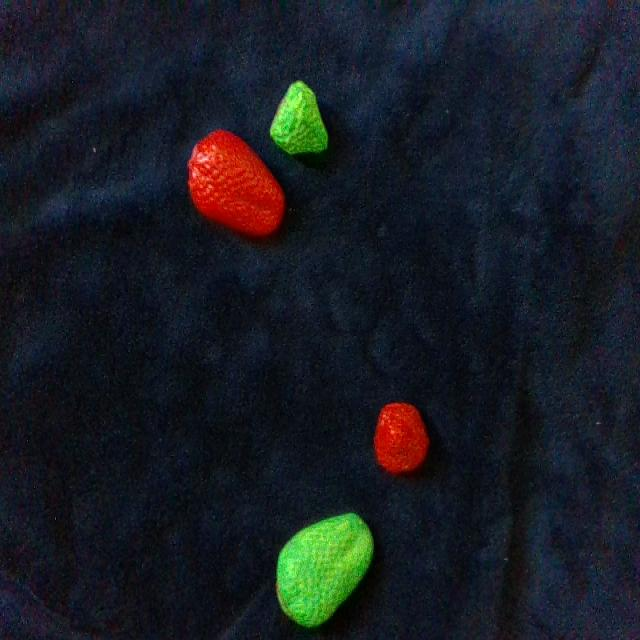chica_roja: (374, 404, 429, 472)
grande_roja: (188, 131, 284, 235)
verde: (277, 513, 373, 627), (270, 81, 327, 153)
